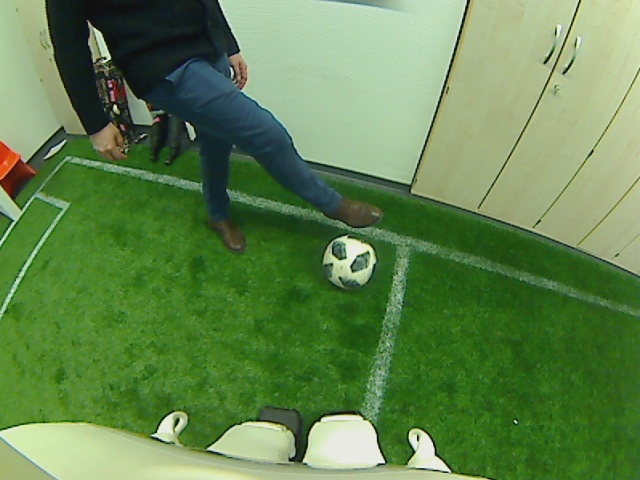ball: (319, 234, 377, 289)
